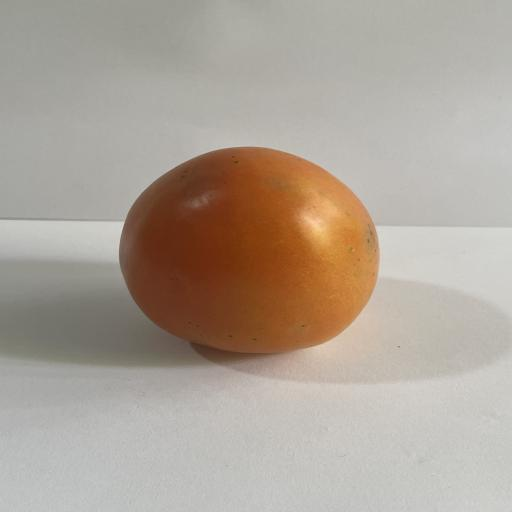unripe: (119, 147, 379, 353)
